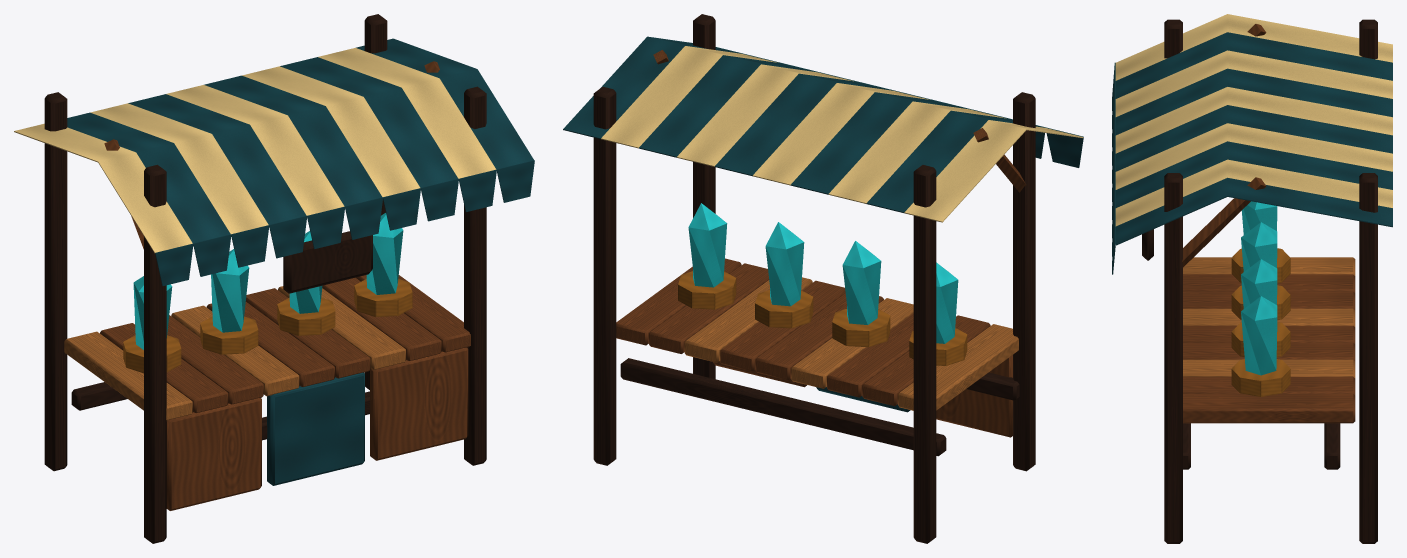
File: Banca_de_reliquias_LOD0.fbx
3 renders of one model, left to right at view 1: azimuth 30°, elevation 25°; view 2: azimuth 150°, elevation 25°; view 3: azimuth 270°, elevation 25°, orthographic.
Parts seen in each view (by area): view 1: Banca_de_reliquias_LOD0; view 2: Banca_de_reliquias_LOD0; view 3: Banca_de_reliquias_LOD0.
Boxes of the visible parts, x1,y1,x2,y2 form: Banca_de_reliquias_LOD0: (14,14,534,543); Banca_de_reliquias_LOD0: (563,14,1083,543); Banca_de_reliquias_LOD0: (1112,14,1392,543).
Bounding box in the file's own units: 320 × 300 × 209.
Materials: 1 (1 with a texture image).
